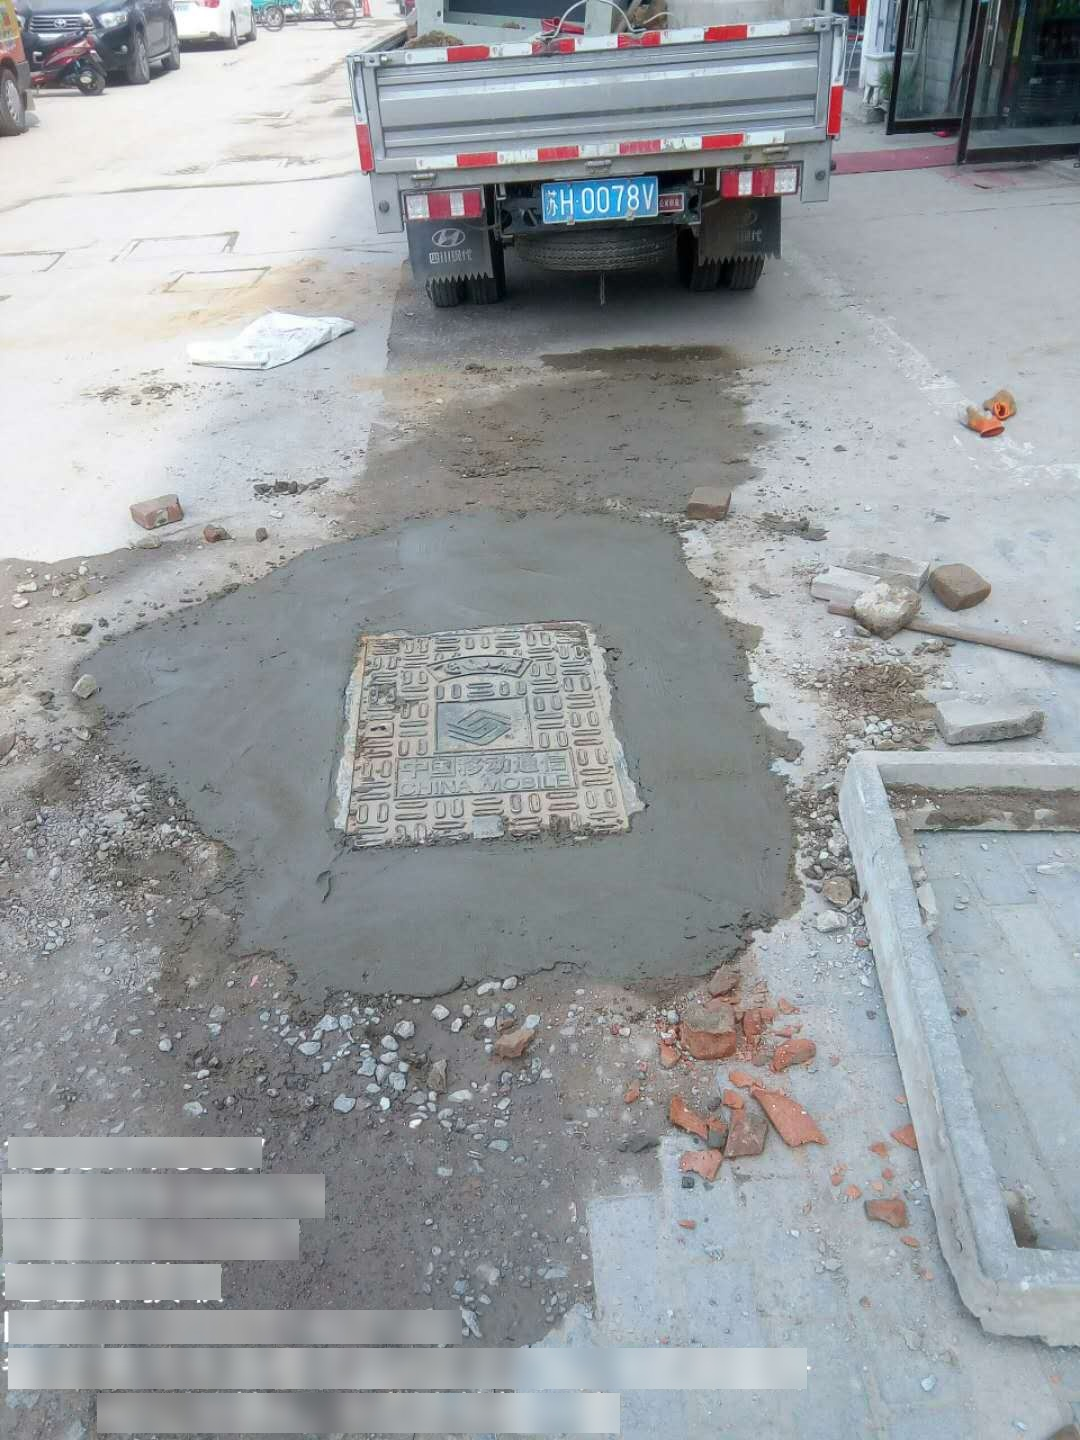good: (331, 621, 638, 855)
